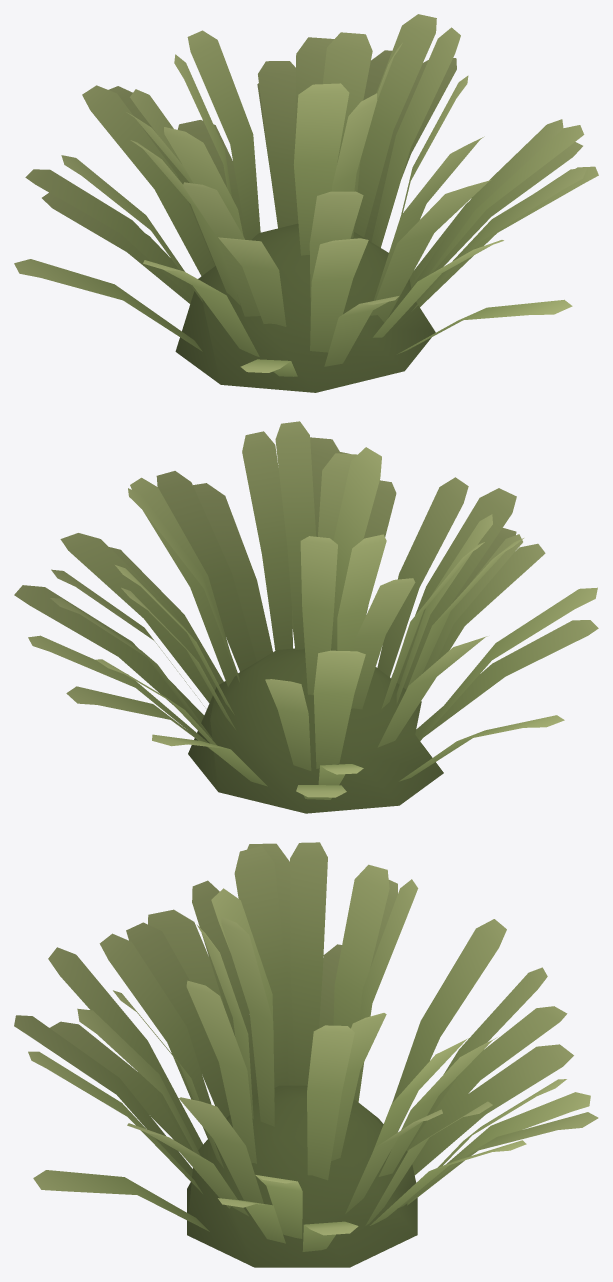
Rendered from tuft-c.glb.
3 views of the same model, one above another, from view 1: azimuth 30°, elevation 25°; view 2: azimuth 150°, elevation 25°; view 3: azimuth 270°, elevation 25° (orthographic). The views are drawn at different scales.
Visible parts, largest first — view 1: tuft_c_grass_tuft; view 2: tuft_c_grass_tuft; view 3: tuft_c_grass_tuft.
Boxes of the visible parts, <box> form: tuft_c_grass_tuft: <box>14,14,598,392</box>; tuft_c_grass_tuft: <box>14,421,598,813</box>; tuft_c_grass_tuft: <box>14,842,598,1267</box>.
Size of the model in its own units: 0.3047 by 0.16 by 0.2621.
